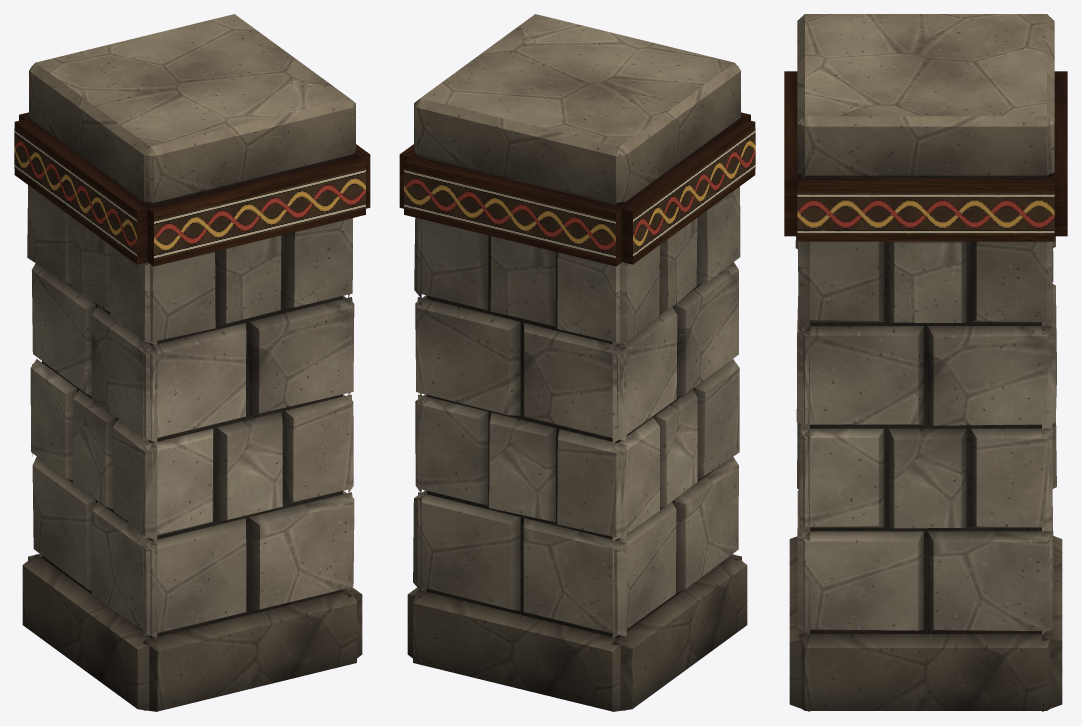
Rendered from interior_wall_stone.glb.
The picture shows the model from 3 angles, left to right: view 1: azimuth 30°, elevation 25°; view 2: azimuth 150°, elevation 25°; view 3: azimuth 270°, elevation 25°; orthographic projection. The views are drawn at different scales.
Visible parts, largest first — view 1: interior_wall_stone; view 2: interior_wall_stone; view 3: interior_wall_stone.
Boxes of the visible parts, bbox=[...] form: interior_wall_stone: bbox=[14, 14, 370, 711]; interior_wall_stone: bbox=[399, 14, 755, 711]; interior_wall_stone: bbox=[784, 14, 1067, 711].
Size of the model in its own units: 1.1 by 2.55 by 1.1.
Materials: 3 (3 with a texture image).
